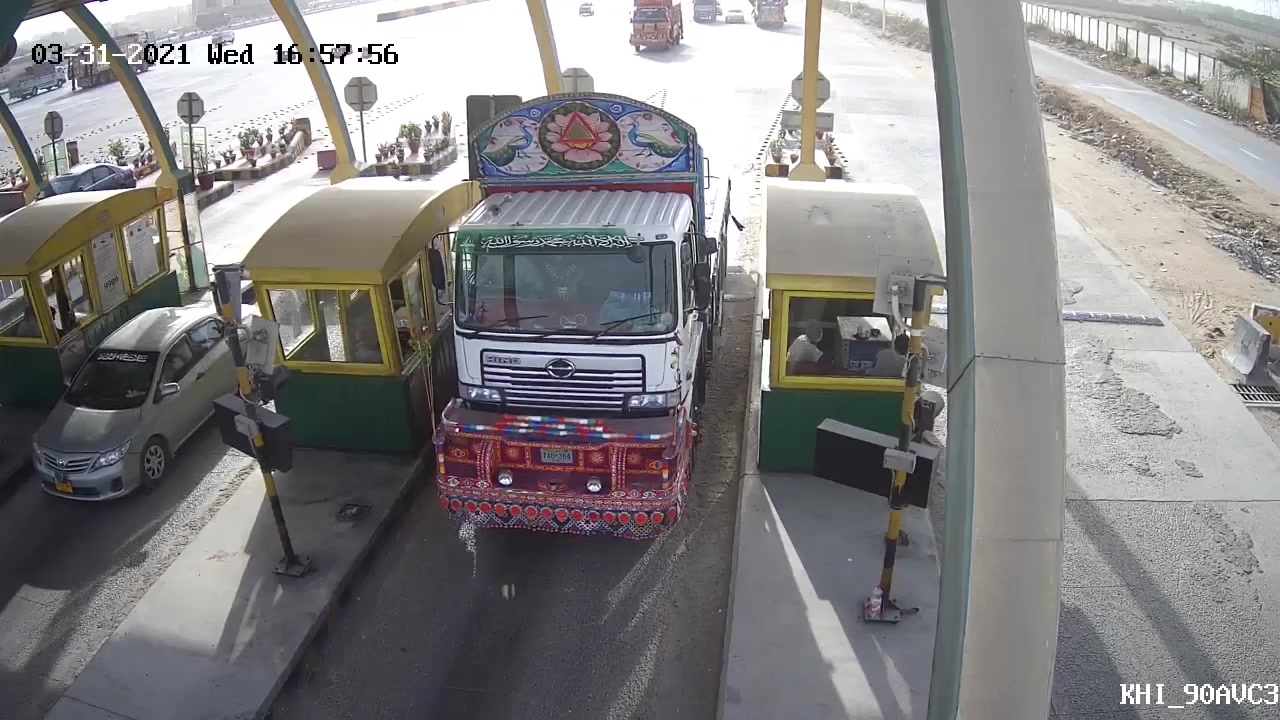F5: (425, 95, 737, 557)
